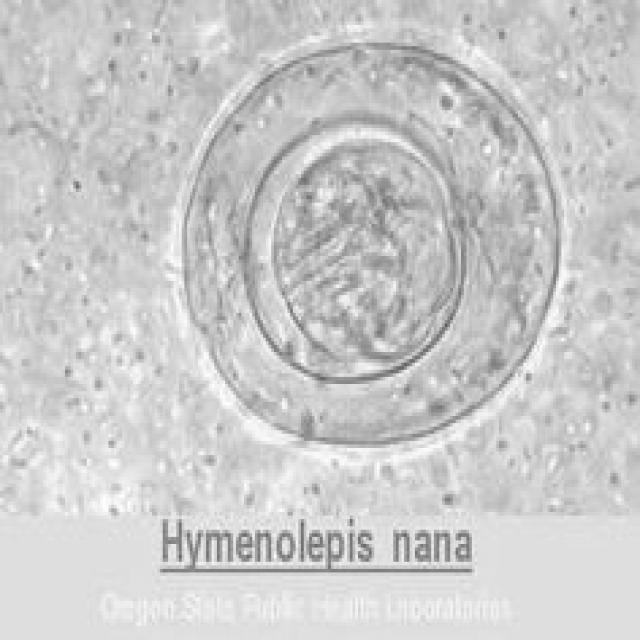Hymenolepis: (172, 23, 568, 457)
